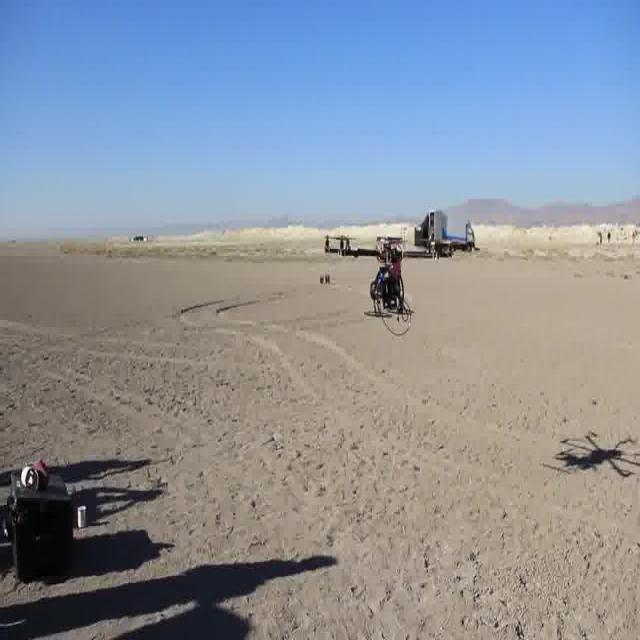drone: (322, 231, 454, 321)
